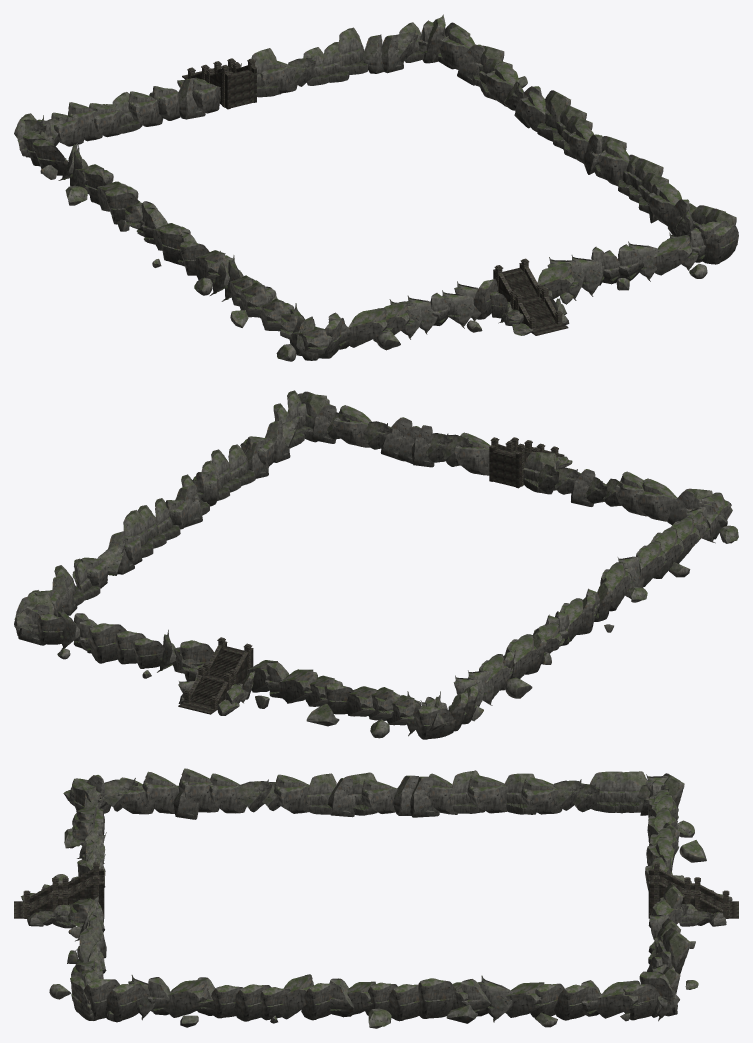
The model's file is lot_base_v11.glb.
3 views of the same model, one above another, from view 1: azimuth 30°, elevation 25°; view 2: azimuth 150°, elevation 25°; view 3: azimuth 270°, elevation 25° (orthographic). The views are drawn at different scales.
Visible parts, largest first — view 1: cliff_b (×21), cliff_d (×13), cliff_c (×5), stairs_back, stairs_front, cliff_a (×3); view 2: cliff_b (×19), cliff_d (×14), cliff_c (×7), stairs_front, stairs_back, cliff_a; view 3: cliff_d (×21), cliff_b (×19), cliff_c (×9), cliff_a (×5), stairs_back, stairs_front, boulder_b.
Boxes of the visible parts, x1,y1,x2,y2 form: cliff_b (×21): [51, 27, 698, 355]; cliff_d (×13): [32, 14, 738, 319]; cliff_c (×5): [178, 34, 644, 280]; stairs_back: [493, 258, 568, 335]; stairs_front: [182, 58, 257, 109]; cliff_a (×3): [442, 241, 658, 328]; cliff_b (×19): [72, 405, 732, 725]; cliff_d (×14): [37, 391, 556, 739]; cliff_c (×7): [175, 404, 694, 527]; stairs_front: [178, 637, 253, 714]; stairs_back: [489, 437, 564, 488]; cliff_a: [363, 421, 392, 449]; cliff_d (×21): [70, 770, 690, 1022]; cliff_b (×19): [70, 768, 683, 1019]; cliff_c (×9): [76, 775, 601, 1017]; cliff_a (×5): [104, 778, 599, 1022]; stairs_back: [14, 862, 104, 918]; stairs_front: [648, 862, 738, 918]; boulder_b: [679, 840, 706, 862].
Size of the model in its own units: 122 by 11.51 by 159.
10 materials, 10 textured.
